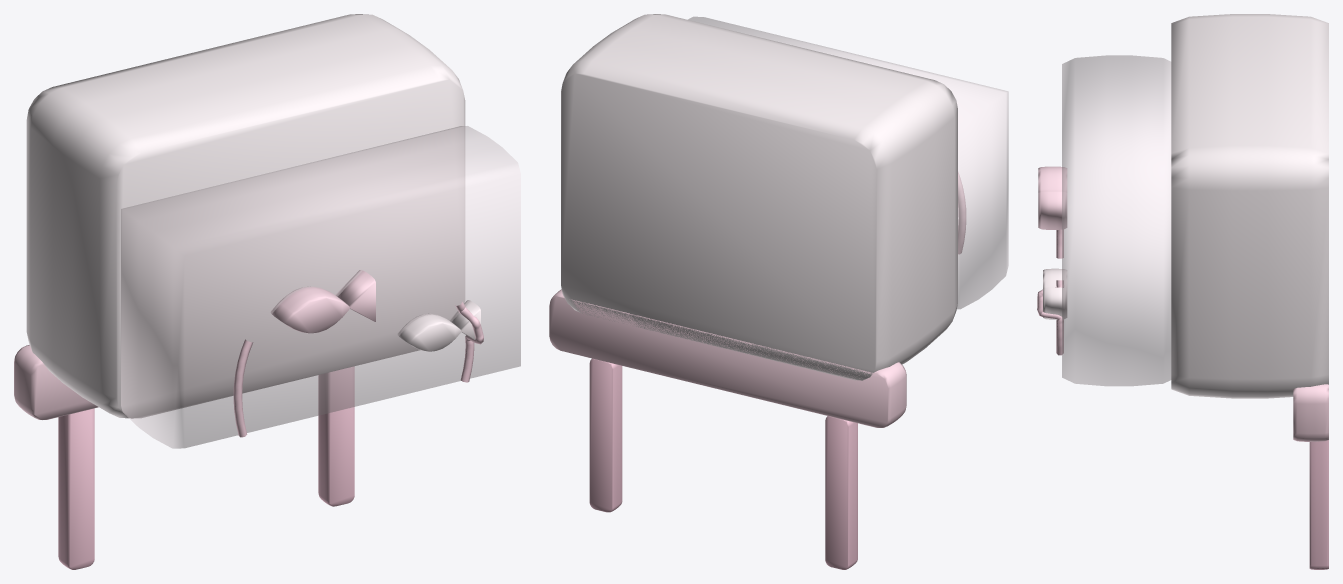
File: decor_3_candy.glb
3 views of the same model, side by side, from view 1: azimuth 30°, elevation 25°; view 2: azimuth 150°, elevation 25°; view 3: azimuth 270°, elevation 25° (orthographic). The views are drawn at different scales.
Visible parts, largest first — view 1: decor_3_candy; view 2: decor_3_candy; view 3: decor_3_candy.
Part boxes in pixels (left/top/right/bottom): decor_3_candy: left=14, top=14, right=520, bottom=569; decor_3_candy: left=549, top=14, right=1008, bottom=569; decor_3_candy: left=1037, top=14, right=1328, bottom=569.
Bounding box in the file's own units: 11.93 × 14.71 × 9.06.
